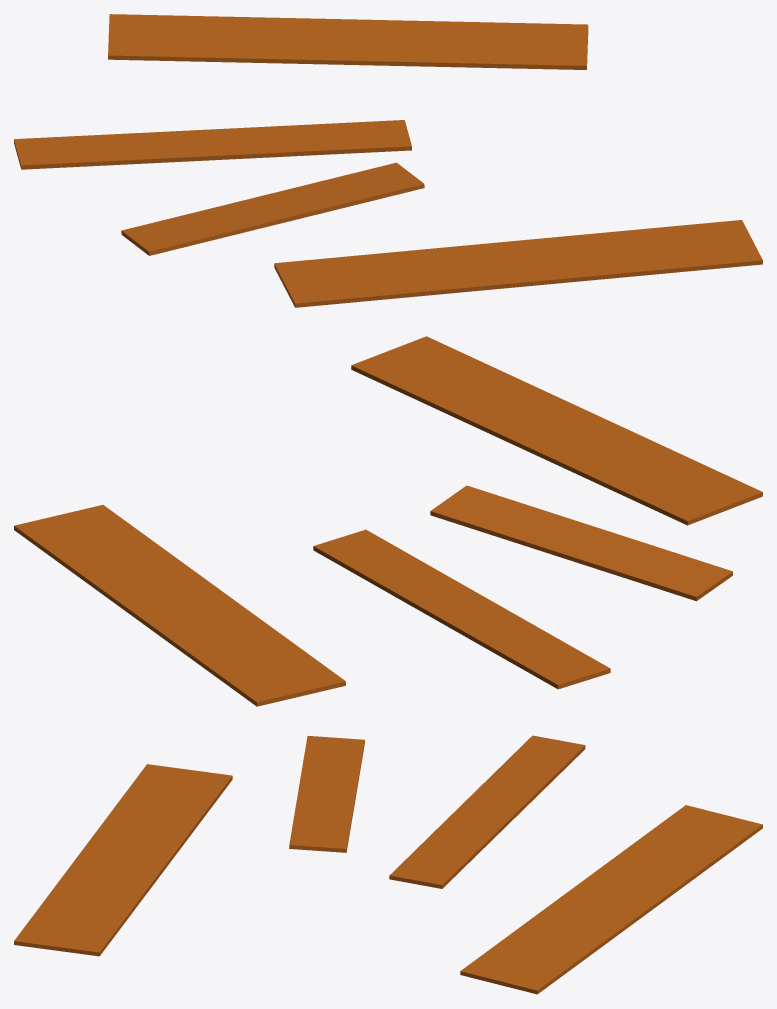
File: Iron.fbx
The picture shows the model from 3 angles, top to bottom: view 1: azimuth 30°, elevation 25°; view 2: azimuth 150°, elevation 25°; view 3: azimuth 270°, elevation 25°; orthographic projection. The views are drawn at different scales.
Visible parts, largest first — view 1: IronPlate1, IronPlate2, IronPlate4, IronPlate3; view 2: IronPlate1, IronPlate2, IronPlate4, IronPlate3; view 3: IronPlate2, IronPlate1, IronPlate4, IronPlate3.
Boxes of the visible parts, bbox=[...] form: IronPlate1: bbox=[274, 220, 762, 307]; IronPlate2: bbox=[108, 14, 588, 69]; IronPlate4: bbox=[14, 120, 411, 169]; IronPlate3: bbox=[121, 162, 424, 255]; IronPlate1: bbox=[351, 336, 762, 525]; IronPlate2: bbox=[14, 505, 345, 706]; IronPlate4: bbox=[313, 529, 610, 689]; IronPlate3: bbox=[430, 485, 732, 601]; IronPlate2: bbox=[460, 805, 762, 994]; IronPlate1: bbox=[14, 764, 232, 956]; IronPlate4: bbox=[389, 735, 585, 888]; IronPlate3: bbox=[289, 736, 364, 852].
Bounding box in the file's own units: 348 × 10.1 × 432.
